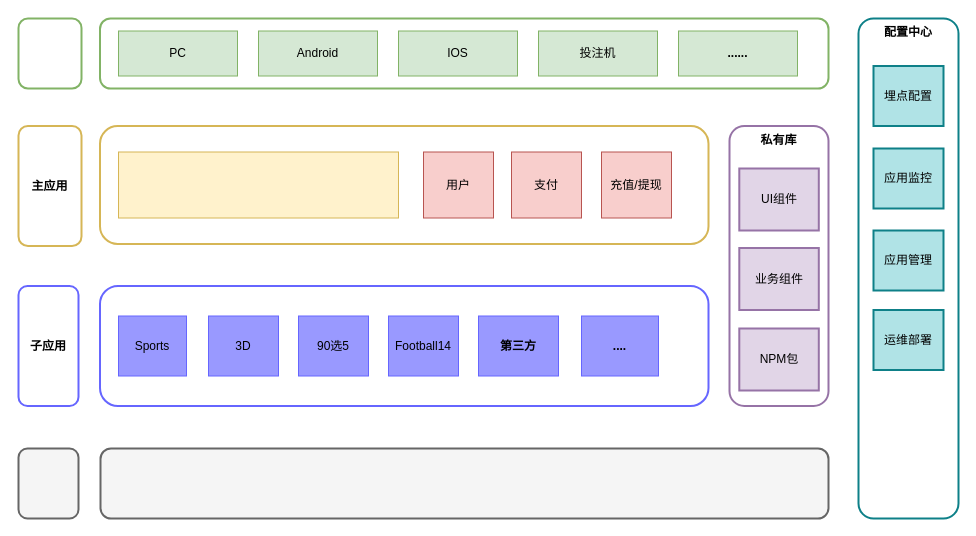
The diagram is 976 pixels wide and 536 high, and some of its shapes have lost their labels. The shapes that lost their labels are listed below. From the top down, each one's centre as x and y in pixels, then its label:
the point at 49,53: 设备
the point at 258,184: 应用壳（导航）
the point at 48,483: API
the point at 464,483: 网关（用户、Sports、Lottery....）
